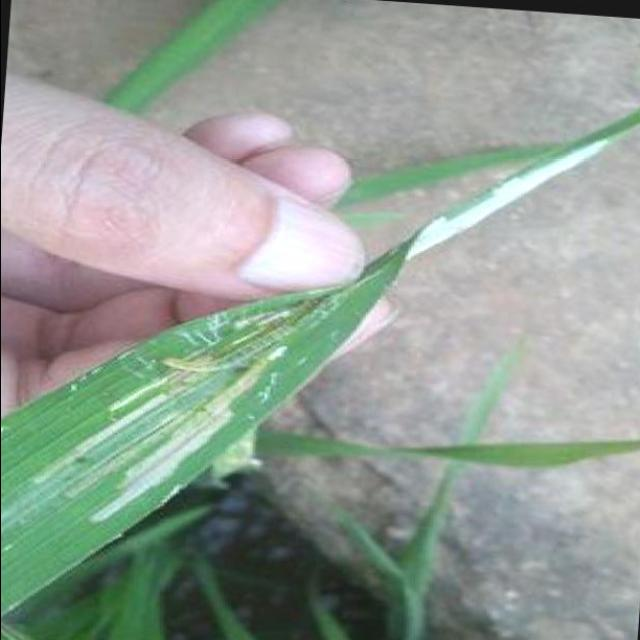leaf folder: (161, 319, 296, 371)
